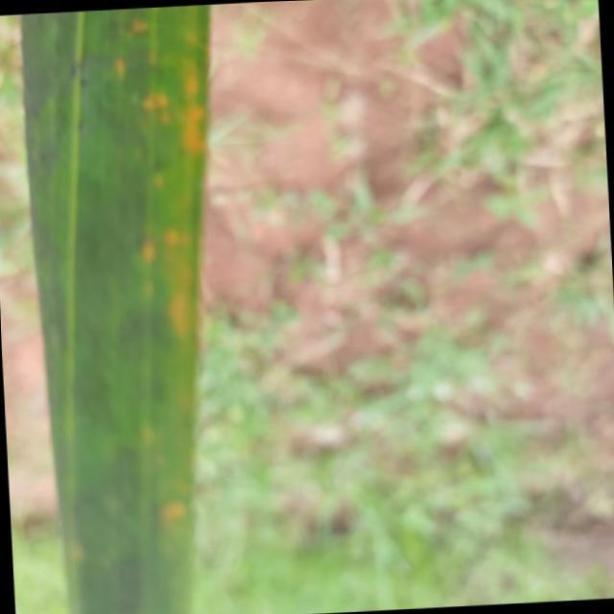Kalium: (17, 1, 212, 614)
